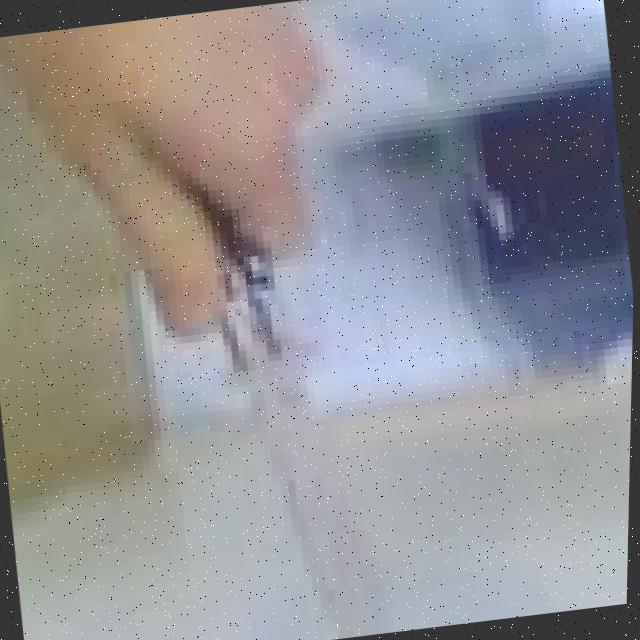knife: (208, 244, 397, 640)
